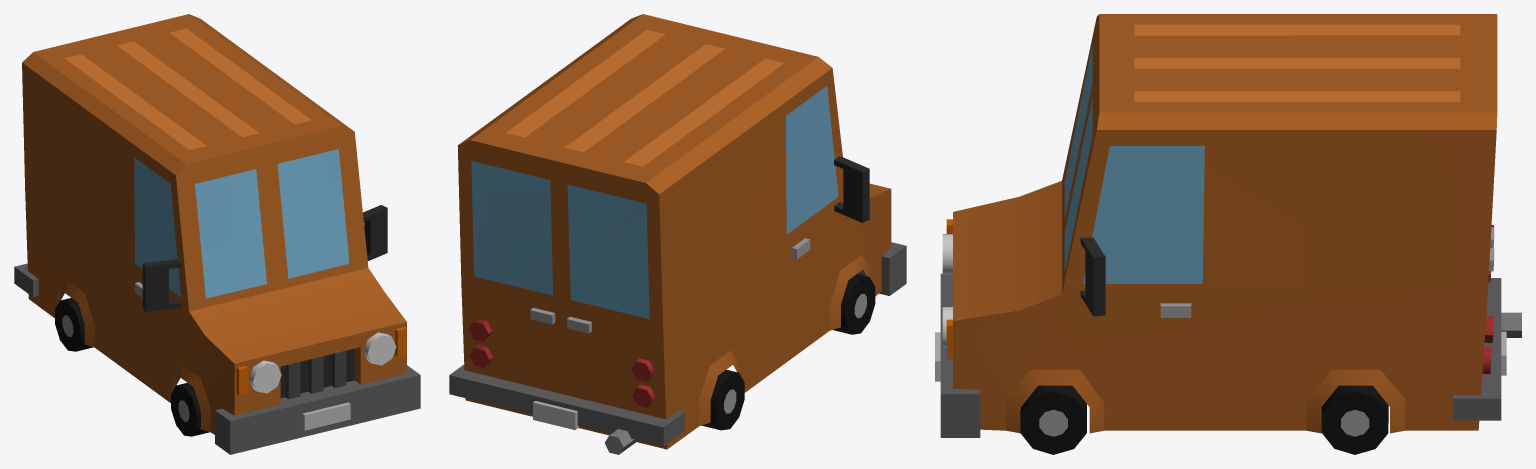
File: Car_07_orange.fbx
The picture shows the model from 3 angles, left to right: view 1: azimuth 30°, elevation 25°; view 2: azimuth 150°, elevation 25°; view 3: azimuth 270°, elevation 25°; orthographic projection. The views are drawn at different scales.
Parts seen in each view (by area): view 1: Car_07_orange; view 2: Car_07_orange; view 3: Car_07_orange.
Boxes of the visible parts, left/top/right/bottom form: Car_07_orange: left=14, top=14, right=420, bottom=454; Car_07_orange: left=449, top=14, right=906, bottom=454; Car_07_orange: left=935, top=14, right=1521, bottom=454.
Bounding box in the file's own units: 65.22 × 65.28 × 105.
